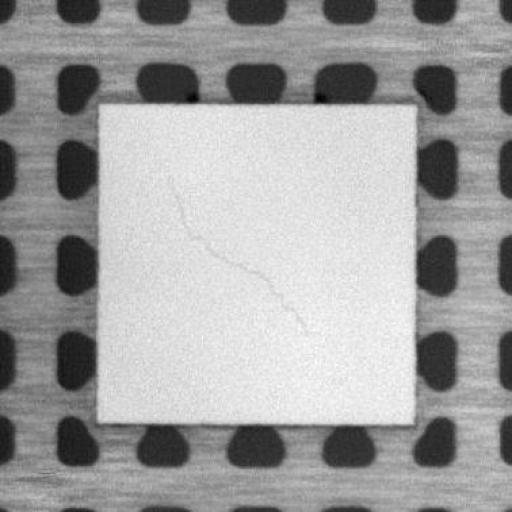DIE_CRACK: (164, 173, 307, 335)
